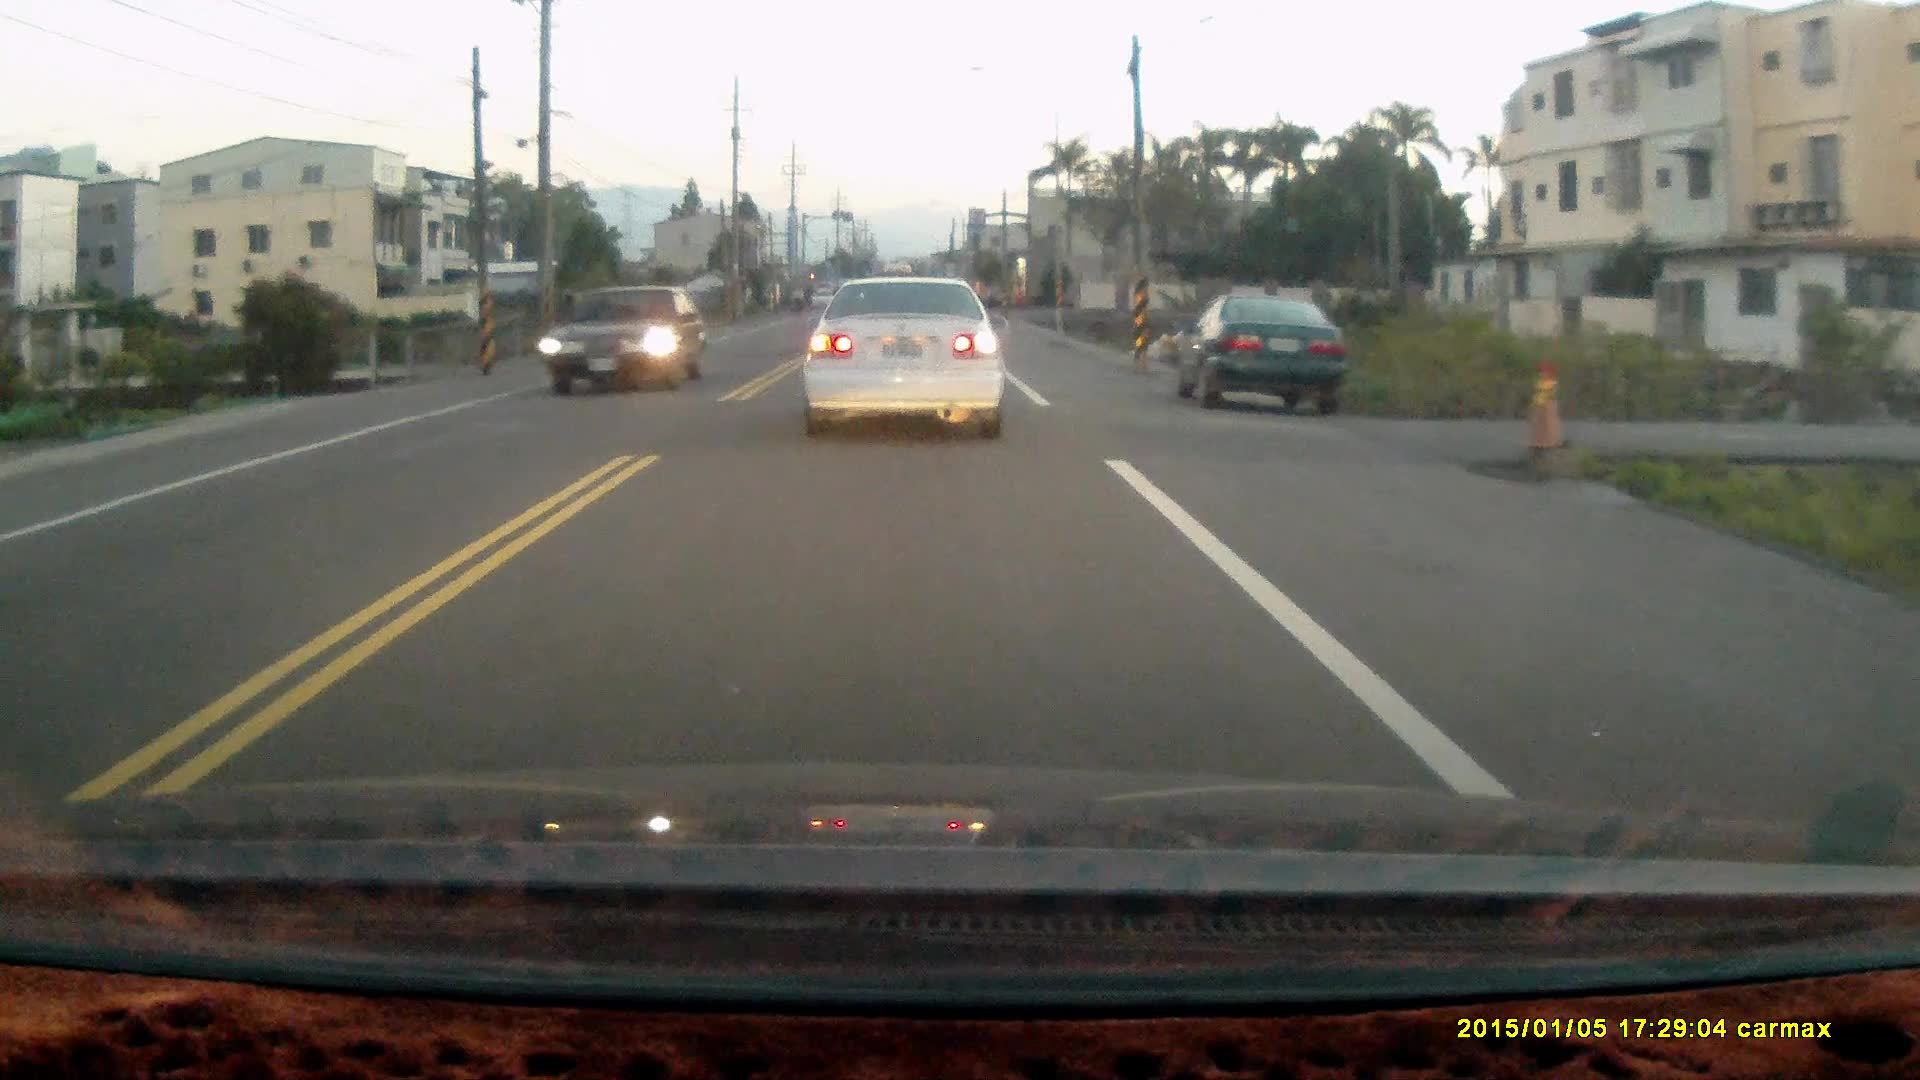vehicle: (796, 276, 1011, 443), (1179, 287, 1352, 413), (546, 286, 704, 396)
